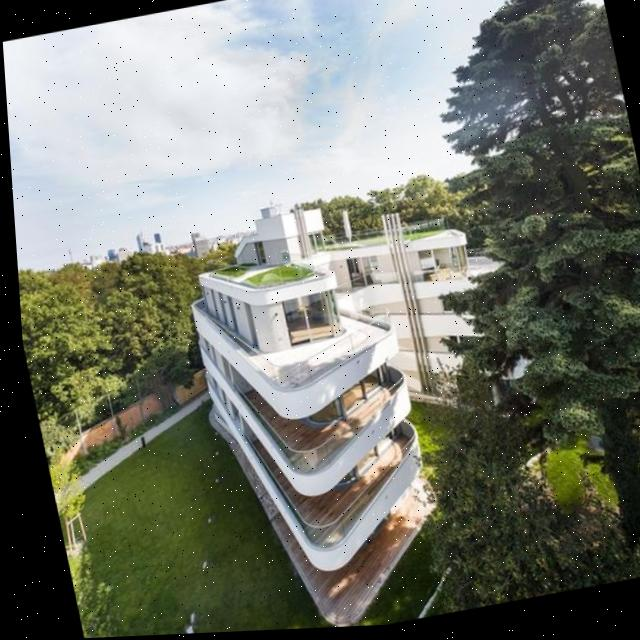building: (173, 165, 572, 633)
